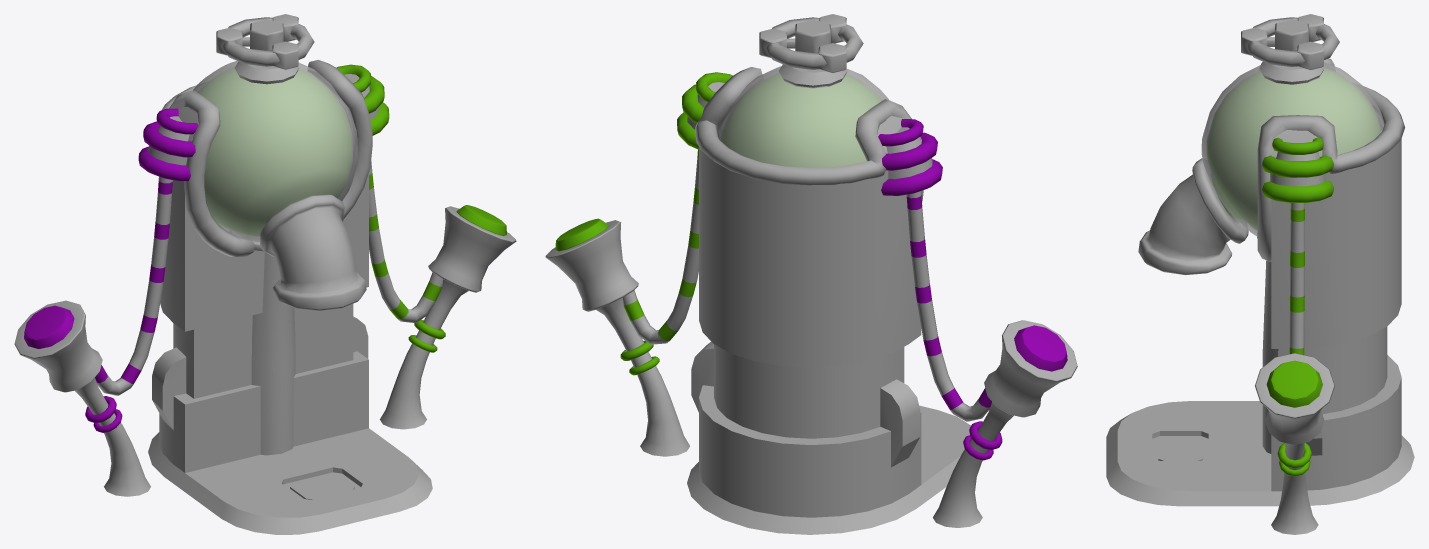
Rendered from Env_Props_FlorpFiller_CW.fbx.
3 renders of one model, left to right at view 1: azimuth 30°, elevation 25°; view 2: azimuth 150°, elevation 25°; view 3: azimuth 270°, elevation 25°, orthographic. The views are drawn at different scales.
Parts seen in each view (by area): view 1: Props_Florp_Filler_Base2, Prop_Florp_Tank, Props_Florp_Button_Panel_R, Props_Florp_Button_Panel_L, Props_Florp_Valve, Props_Florp_Button_Cable_L, Props_Florp_Button_Cable_R, Button_L, Button_R; view 2: Props_Florp_Filler_Base2, Prop_Florp_Tank, Props_Florp_Button_Panel_R, Props_Florp_Button_Panel_L, Props_Florp_Valve, Props_Florp_Button_Cable_L, Props_Florp_Button_Cable_R, Button_L, Button_R; view 3: Props_Florp_Filler_Base2, Prop_Florp_Tank, Props_Florp_Button_Panel_R, Props_Florp_Valve, Props_Florp_Button_Cable_R, Button_R.
Boxes of the visible parts, x1,y1,x2,y2 form: Props_Florp_Filler_Base2: (138, 59, 432, 534); Prop_Florp_Tank: (193, 61, 357, 241); Props_Florp_Button_Panel_R: (380, 206, 516, 429); Props_Florp_Button_Panel_L: (14, 300, 150, 496); Props_Florp_Valve: (216, 14, 314, 69); Props_Florp_Button_Cable_L: (95, 176, 172, 395); Props_Florp_Button_Cable_R: (369, 161, 443, 322); Button_L: (24, 305, 74, 348); Button_R: (456, 205, 506, 235); Props_Florp_Filler_Base2: (677, 64, 970, 534); Prop_Florp_Tank: (717, 66, 888, 167); Props_Florp_Button_Panel_R: (545, 220, 689, 456); Props_Florp_Button_Panel_L: (933, 320, 1077, 527); Props_Florp_Valve: (759, 14, 863, 72); Props_Florp_Button_Cable_L: (906, 191, 991, 421); Props_Florp_Button_Cable_R: (623, 149, 698, 344); Button_L: (1014, 325, 1067, 371); Button_R: (555, 218, 608, 251); Props_Florp_Filler_Base2: (1106, 58, 1414, 506); Prop_Florp_Tank: (1201, 62, 1384, 236); Props_Florp_Button_Panel_R: (1255, 353, 1334, 534); Props_Florp_Valve: (1241, 14, 1339, 70); Props_Florp_Button_Cable_R: (1289, 203, 1305, 354); Button_R: (1266, 360, 1322, 407).
Size of the model in its own units: 355 by 296 by 192.
